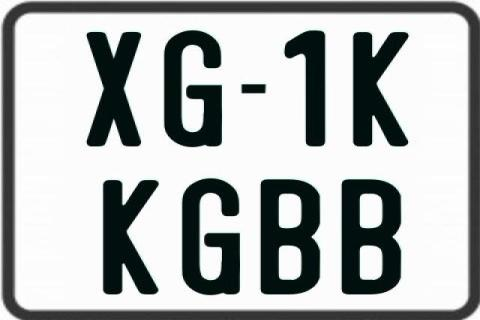0: (282, 31, 328, 147)
B: (341, 178, 406, 296), (259, 178, 323, 294)
G: (163, 30, 227, 152), (179, 178, 239, 294)
K: (353, 30, 414, 144), (103, 178, 159, 296)
X: (86, 31, 140, 148)
